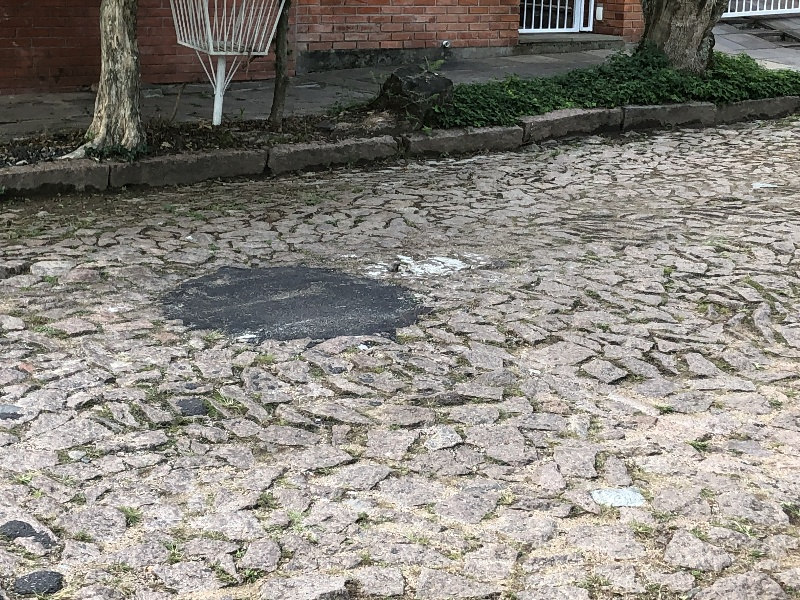v44: (1, 49, 757, 218)
